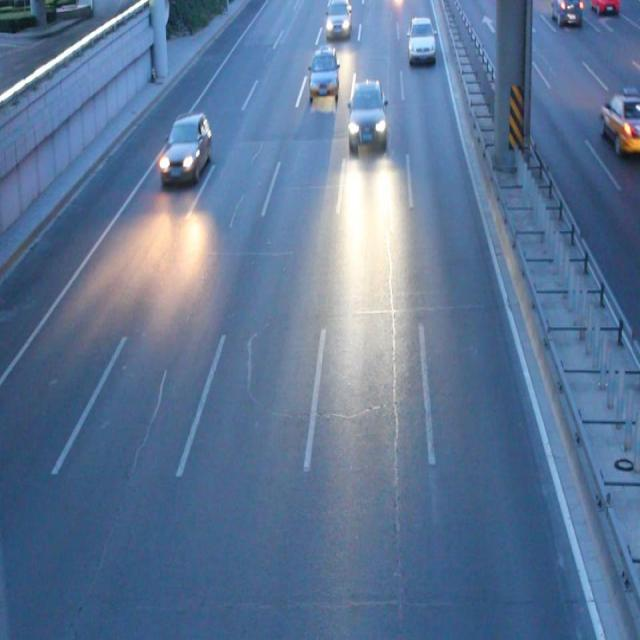car: (160, 114, 211, 182), (598, 92, 640, 149), (349, 82, 385, 146), (309, 48, 339, 100), (408, 17, 433, 58), (325, 1, 350, 37), (549, 1, 580, 25)
